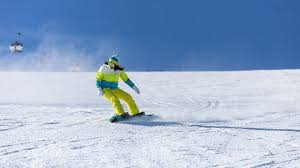snowboarder: (84, 51, 162, 130)
